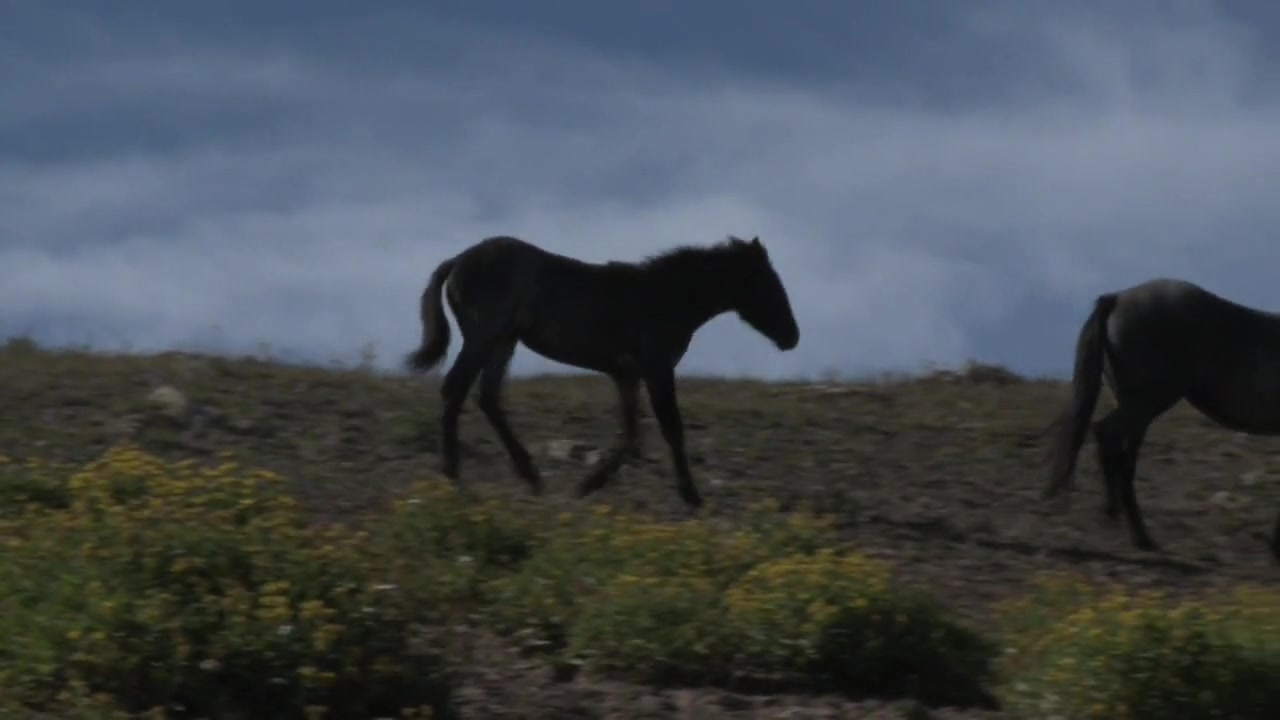horse: (405, 234, 812, 516), (1038, 277, 1280, 552)
